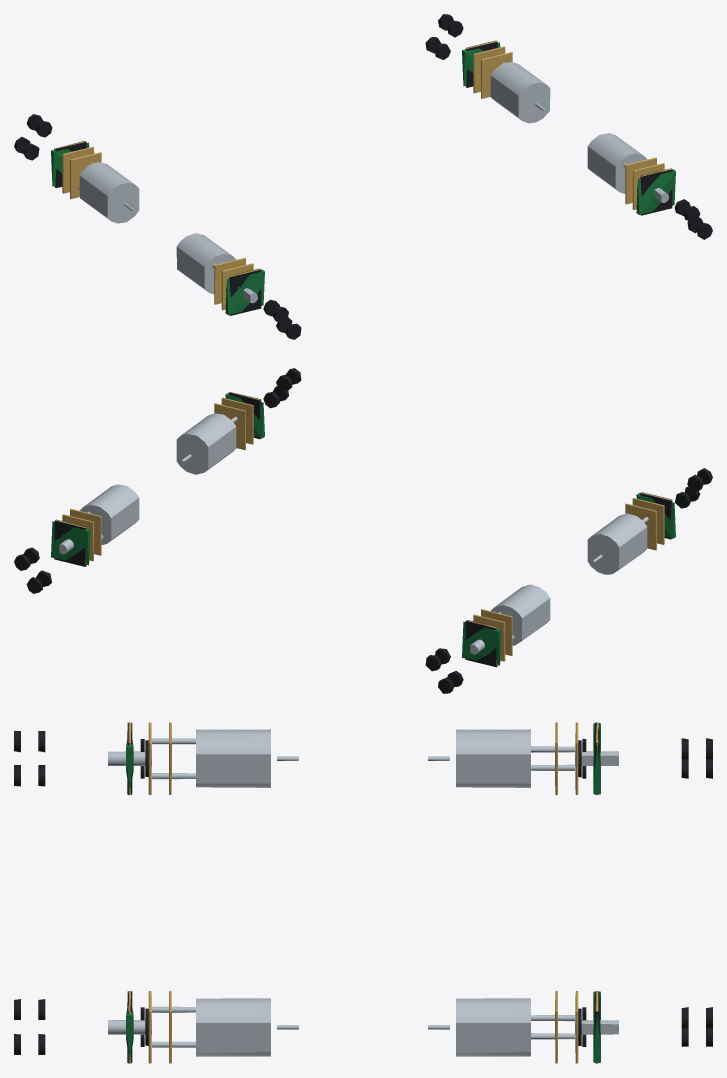
The model's file is motor_light.glb.
The picture shows the model from 3 angles, top to bottom: view 1: azimuth 30°, elevation 25°; view 2: azimuth 150°, elevation 25°; view 3: azimuth 270°, elevation 25°; orthographic projection. The views are drawn at different scales.
Parts seen in each view (by area): view 1: mesh_steel_14, mesh_rubber_and_chip_5, mesh_brass_8, mesh_pcb_11; view 2: mesh_steel_14, mesh_rubber_and_chip_5, mesh_brass_8, mesh_pcb_11; view 3: mesh_steel_14, mesh_rubber_and_chip_5, mesh_brass_8, mesh_pcb_11.
Boxes of the visible parts, x1,y1,x2,y2 form: mesh_steel_14: (78, 62, 668, 303); mesh_rubber_and_chip_5: (14, 14, 712, 339); mesh_brass_8: (55, 41, 671, 315); mesh_pcb_11: (51, 42, 675, 315); mesh_steel_14: (59, 413, 648, 654); mesh_rubber_and_chip_5: (14, 368, 712, 693); mesh_brass_8: (55, 392, 671, 666); mesh_pcb_11: (51, 392, 675, 665); mesh_steel_14: (108, 729, 618, 1056); mesh_rubber_and_chip_5: (14, 722, 712, 1063); mesh_brass_8: (128, 722, 598, 1063); mesh_pcb_11: (126, 723, 600, 1062).
Bounding box in the file's own units: 1.42 × 0.1202 × 1.43.
